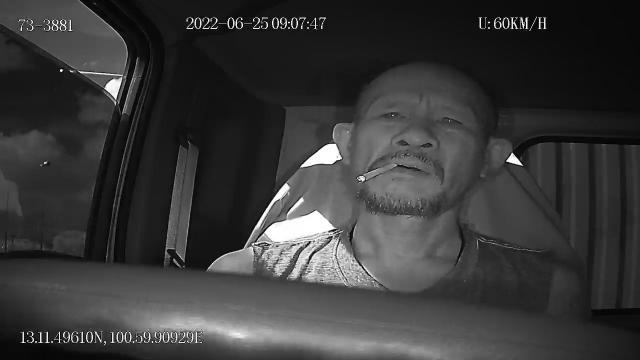SafeDriving: (428, 107, 468, 135), (372, 102, 412, 126)
Smoking: (357, 160, 399, 184)
